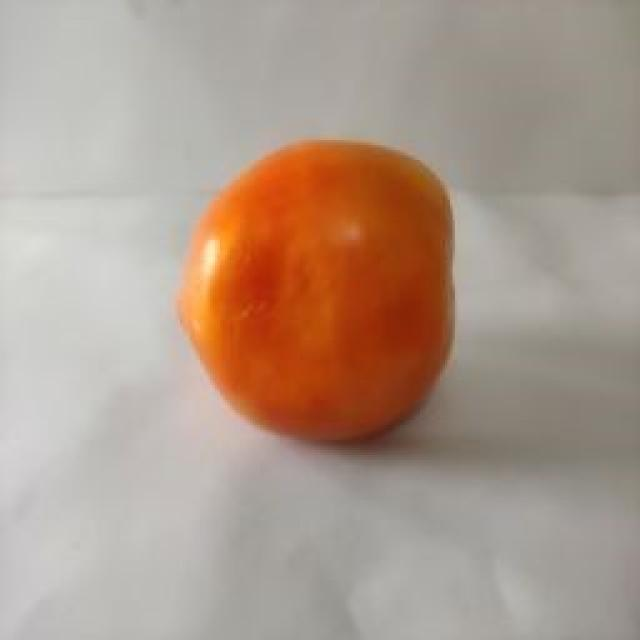Ripe: (166, 127, 461, 452)
